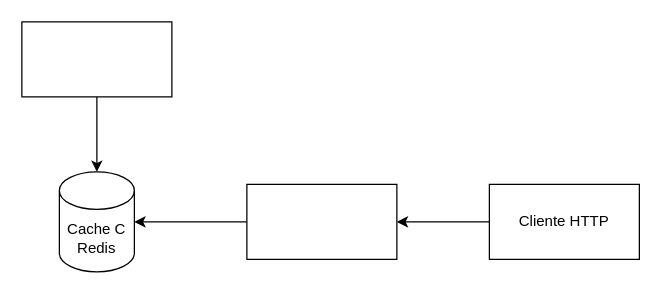
Some shapes in this 661 by 294 pixel diagram are drawn without their labels. Each missing label, with the centre of its shape:
Applicação Escritor C: pixel 96 59
Applicação Leitor C: pixel 321 221
